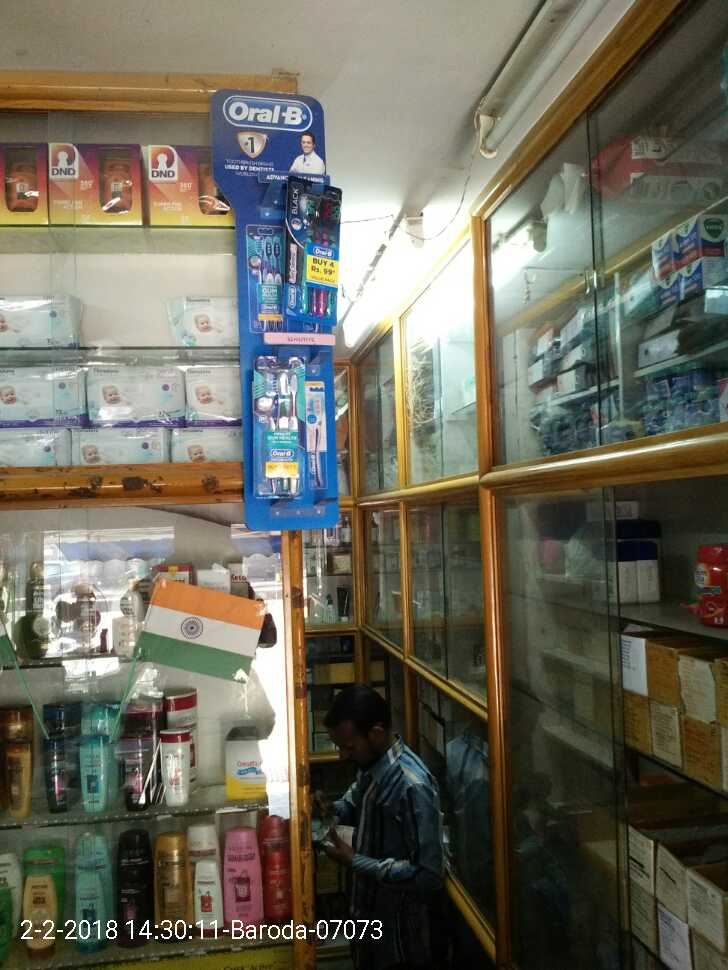oralb: (246, 350, 311, 497), (285, 176, 338, 330)
